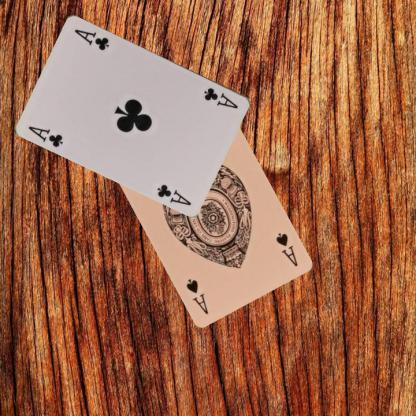Ac: (26, 123, 65, 149), (201, 84, 239, 110)
As: (272, 230, 298, 268)
